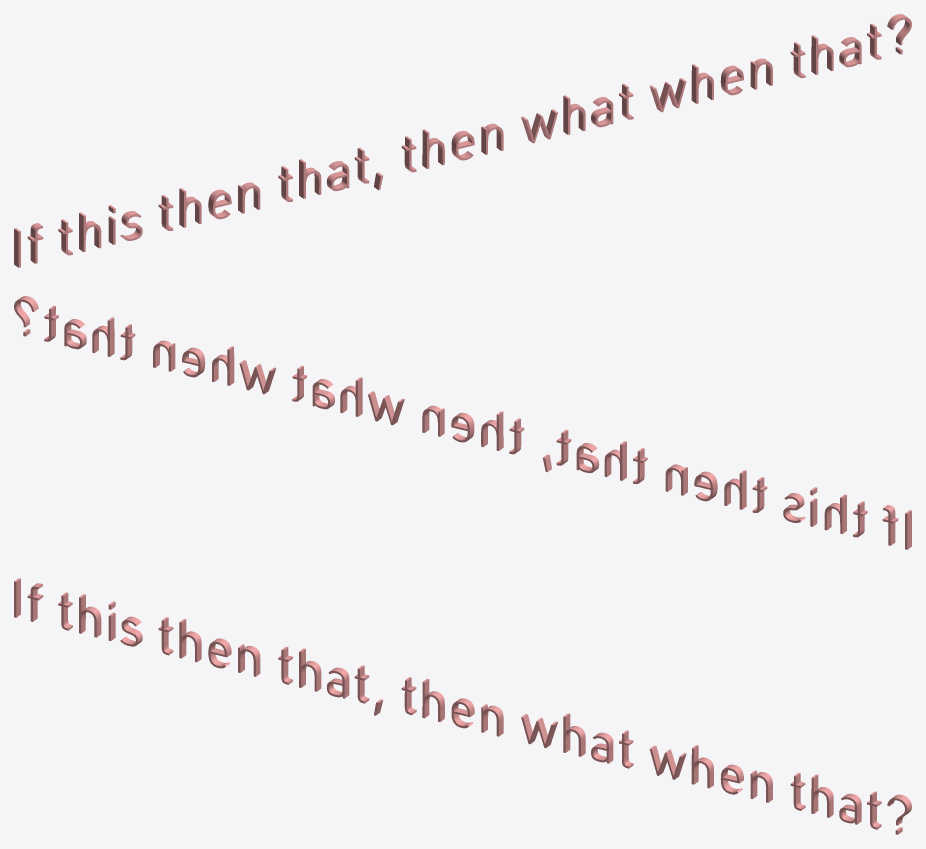
File: title-enDraco.gltf
3 views of the same model, one above another, from view 1: azimuth 30°, elevation 25°; view 2: azimuth 150°, elevation 25°; view 3: azimuth 330°, elevation 25° (orthographic).
Size of the model in its own units: 2.23 by 0.11 by 0.02.
